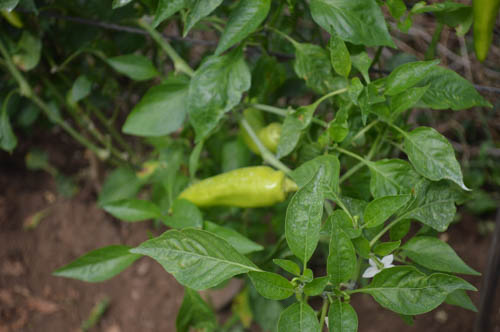ChiliPepper: (174, 168, 293, 218), (236, 104, 293, 160), (473, 5, 494, 64)
